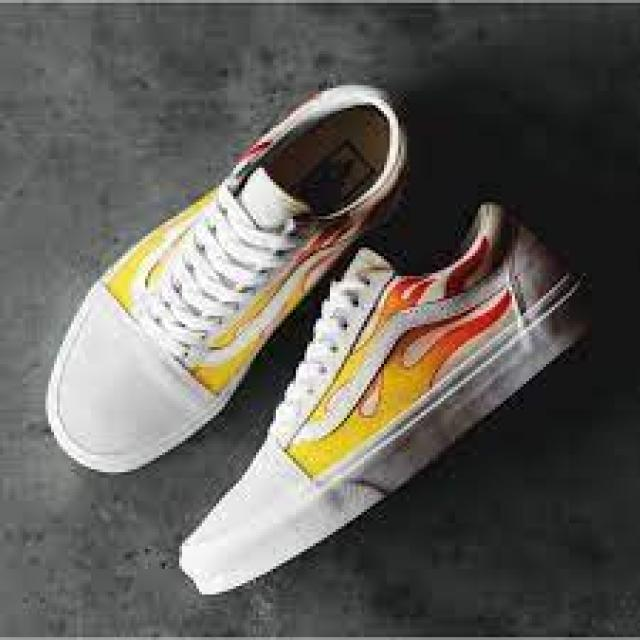shoe: (47, 80, 598, 610), (170, 202, 584, 605), (48, 86, 418, 479)
